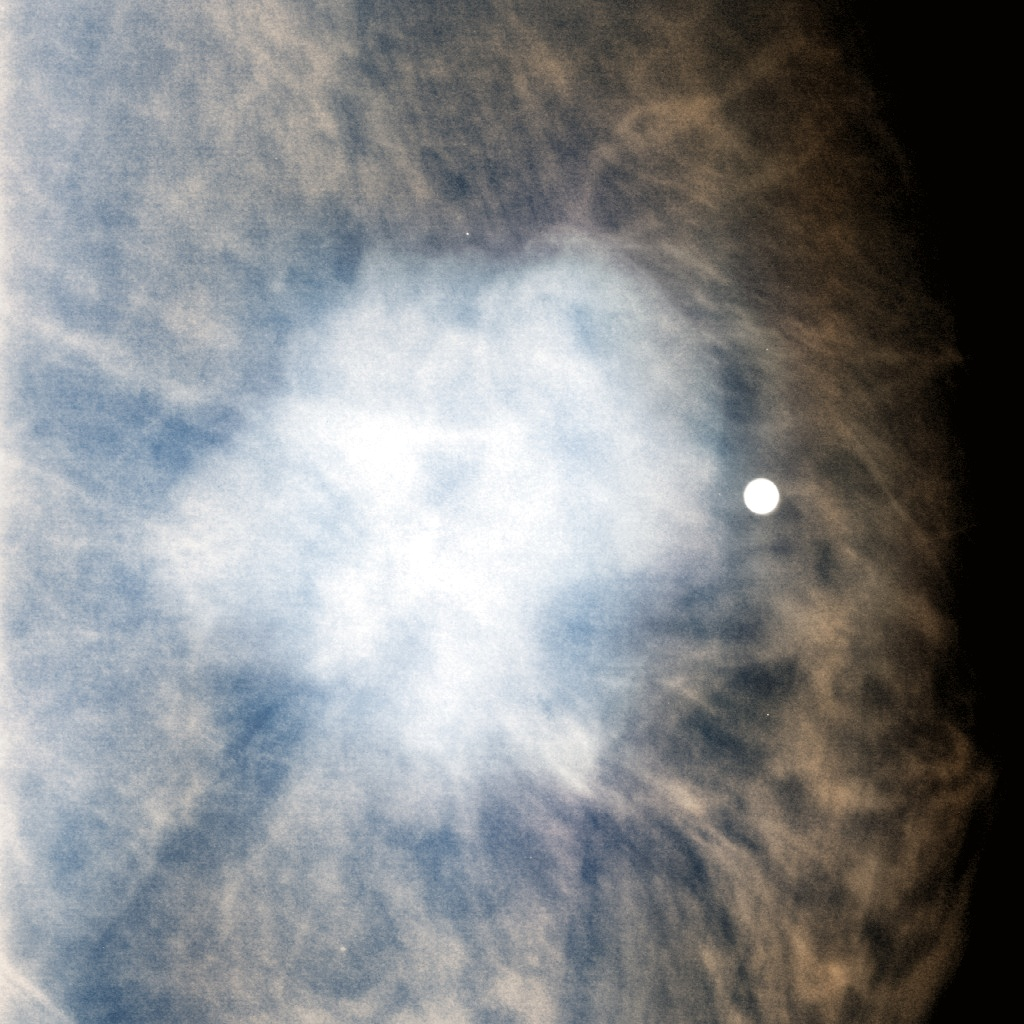tumor: (229, 181, 727, 843)
